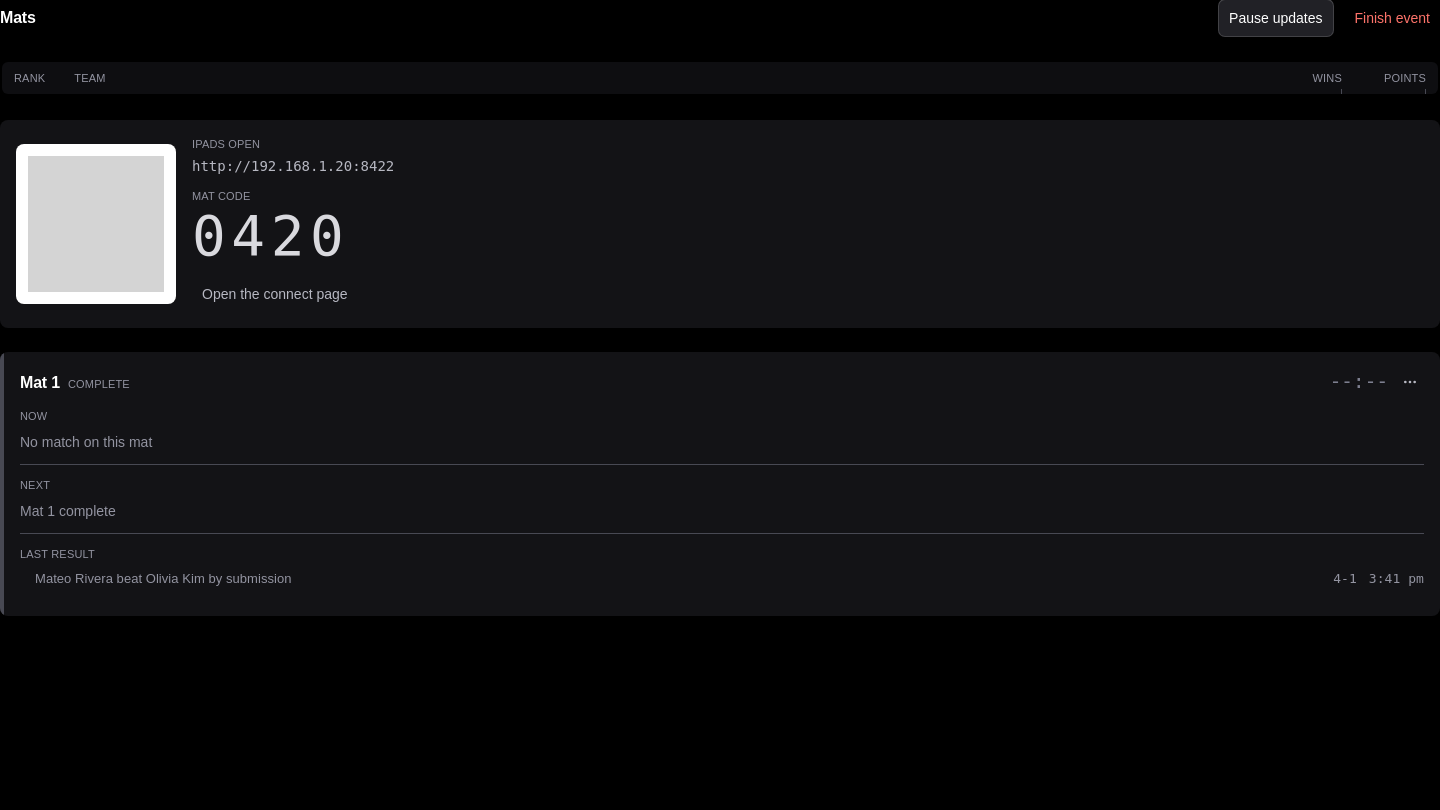
Scenario: LiveTab certification › opens the last result on a mat from the panel overflow
The width and height of the screenshot is (1440, 810).
Click the button named "Mat 1 actions" at (1410, 382), box [1396,368,1424,396]
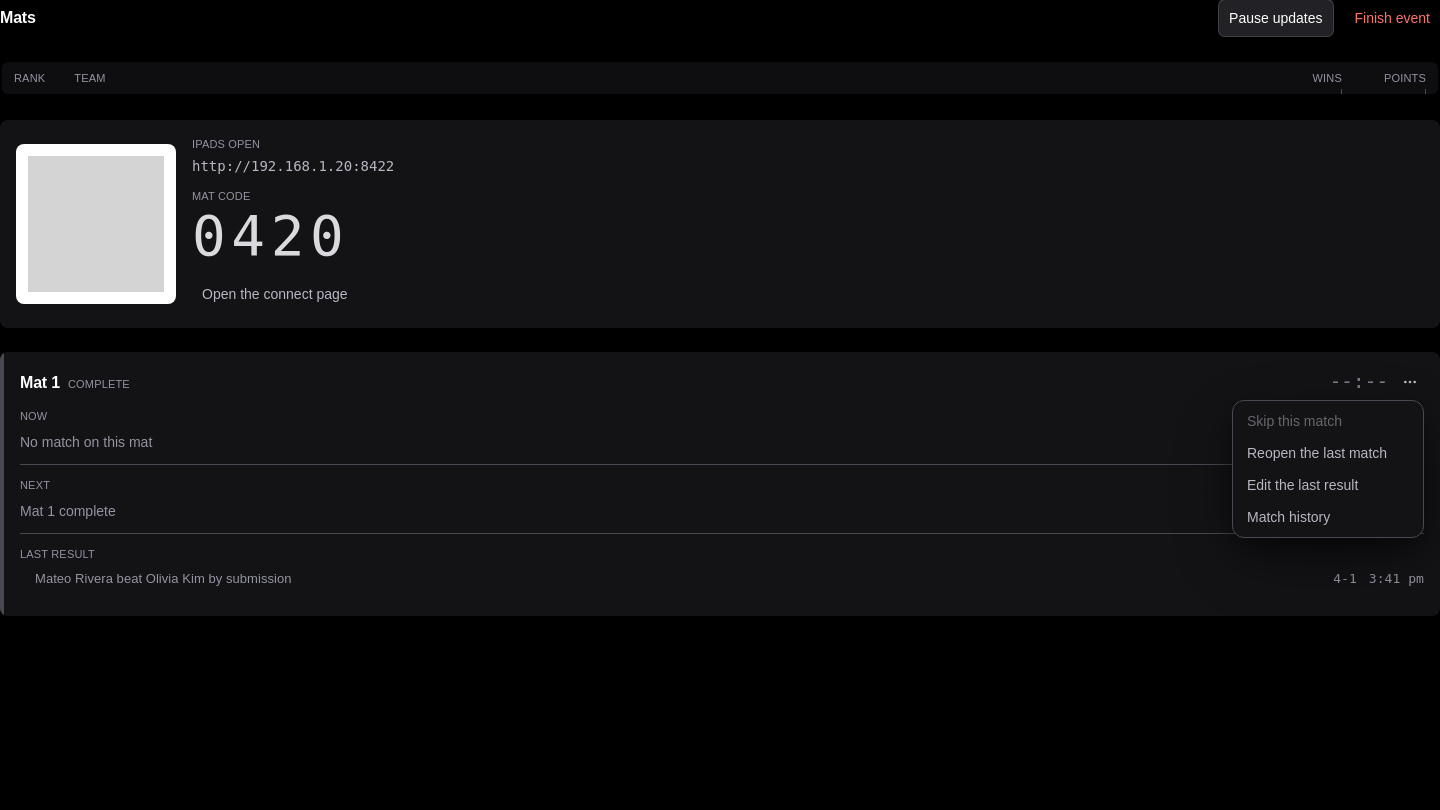
Click the menu item "Match history" at (1289, 517), box [1247,509,1330,525]
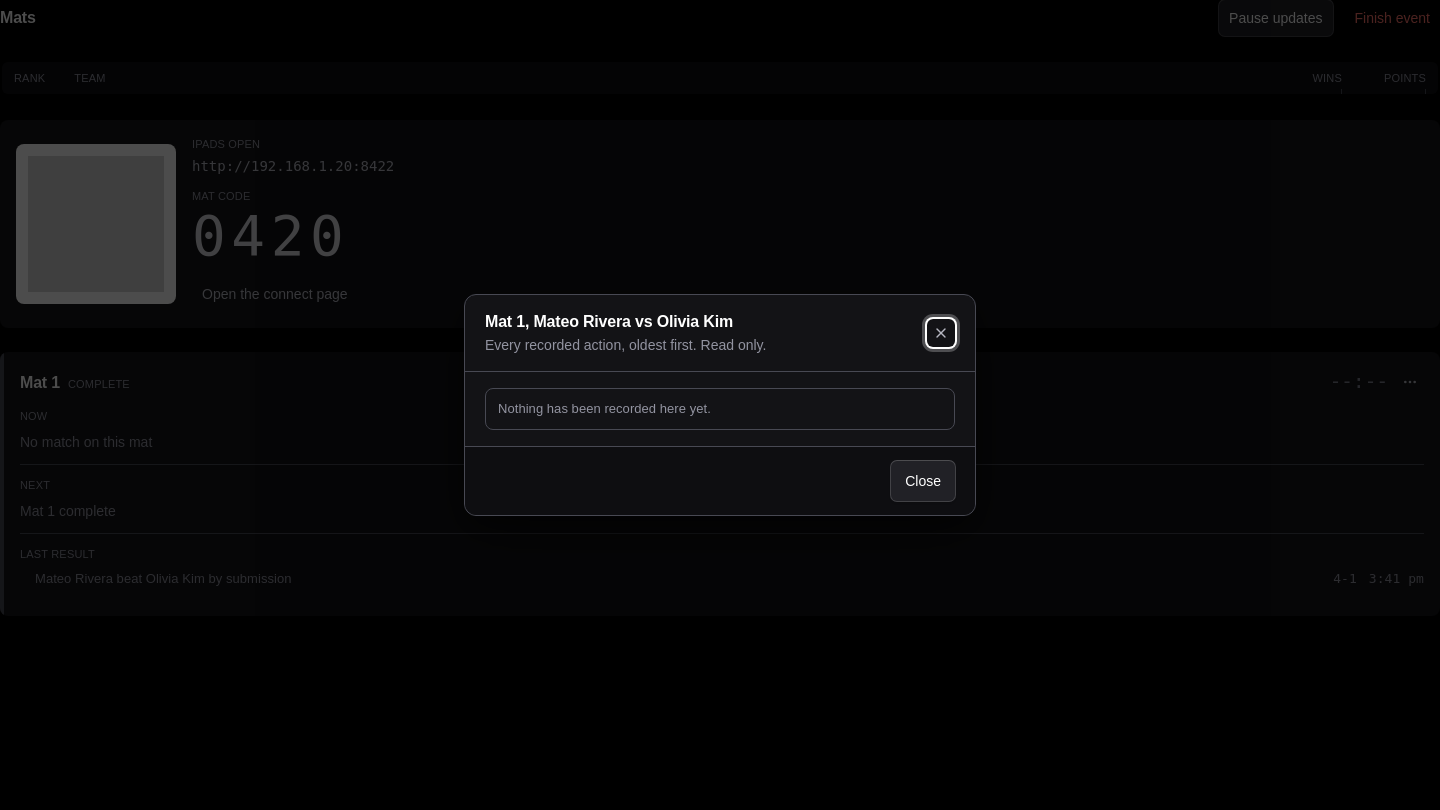
Expected: the dialog shows "Mat 1, Mateo Rivera vs Olivia Kim", [485,313,733,330]
